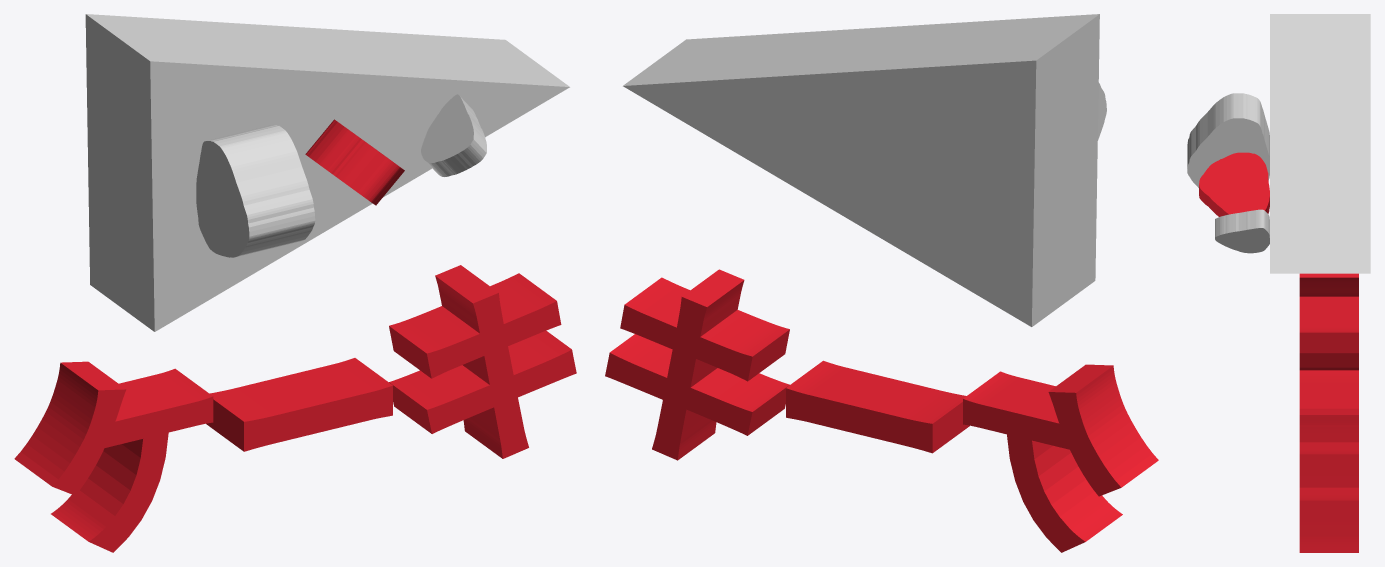
The model's file is tinker.obj.
The picture shows the model from 3 angles, left to right: view 1: azimuth 30°, elevation 25°; view 2: azimuth 150°, elevation 25°; view 3: azimuth 270°, elevation 25°; orthographic projection. The views are drawn at different scales.
Parts seen in each view (by area): view 1: group_0_16448250, group_0_15277357; view 2: group_0_16448250, group_0_15277357; view 3: group_0_16448250, group_0_15277357.
Boxes of the visible parts, x1,y1,x2,y2 form: group_0_16448250: [85, 14, 569, 331]; group_0_15277357: [14, 119, 576, 552]; group_0_16448250: [623, 14, 1106, 326]; group_0_15277357: [605, 269, 1158, 552]; group_0_16448250: [1187, 14, 1370, 273]; group_0_15277357: [1199, 152, 1358, 552].
Bounding box in the file's own units: 79.7 × 72.95 × 31.
